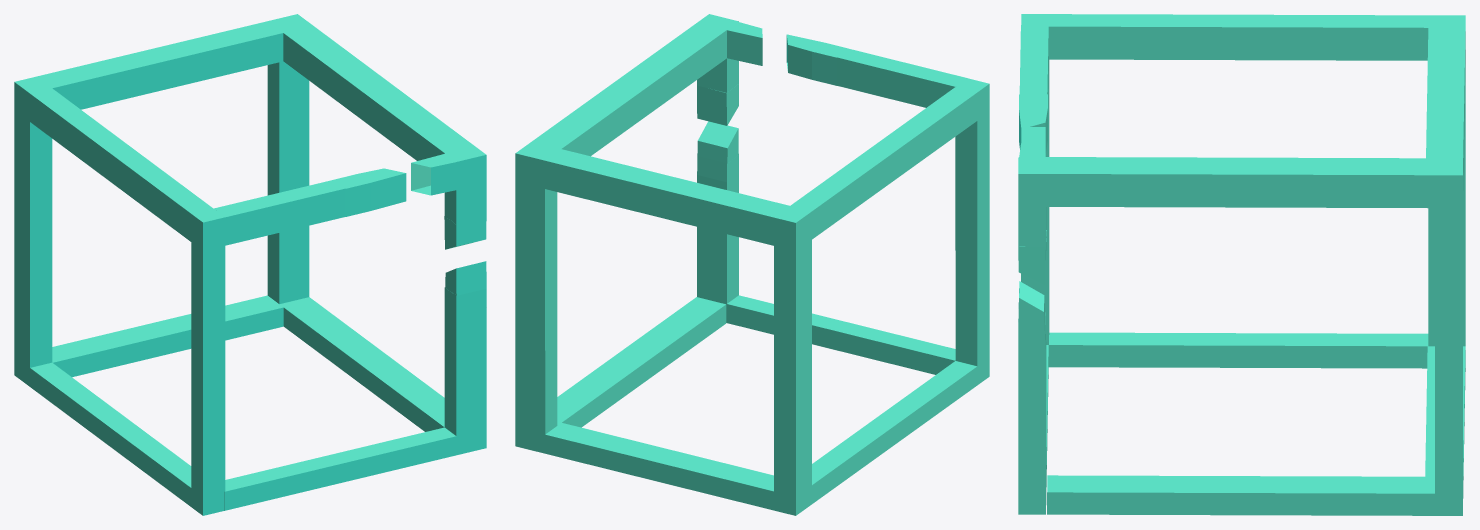
Rendered from Impossible_cube.fbx.
3 views of the same model, side by side, from view 1: azimuth 30°, elevation 25°; view 2: azimuth 150°, elevation 25°; view 3: azimuth 270°, elevation 25° (orthographic). The views are drawn at different scales.
Parts seen in each view (by area): view 1: Cube; view 2: Cube; view 3: Cube.
Boxes of the visible parts, x1,y1,x2,y2 form: Cube: (14,14,486,515); Cube: (515,14,989,515); Cube: (1018,14,1465,515).
Size of the model in its own units: 172 by 169 by 201.
